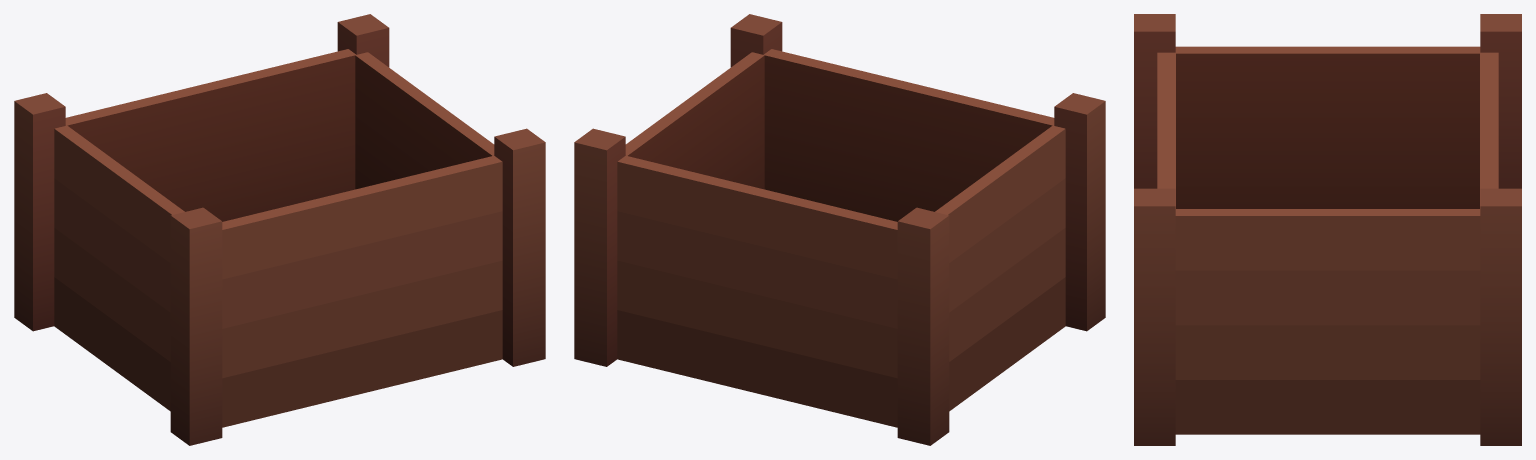
File: farmpack2023smallbox.fbx
The picture shows the model from 3 angles, left to right: view 1: azimuth 30°, elevation 25°; view 2: azimuth 150°, elevation 25°; view 3: azimuth 270°, elevation 25°; orthographic projection. The views are drawn at different scales.
Visible parts, largest first — view 1: Cube.013; view 2: Cube.013; view 3: Cube.013.
Boxes of the visible parts, x1,y1,x2,y2 form: Cube.013: [14, 14, 545, 445]; Cube.013: [574, 14, 1105, 445]; Cube.013: [1134, 14, 1521, 445].
Size of the model in its own units: 0.9589 by 1.12 by 0.6542.
